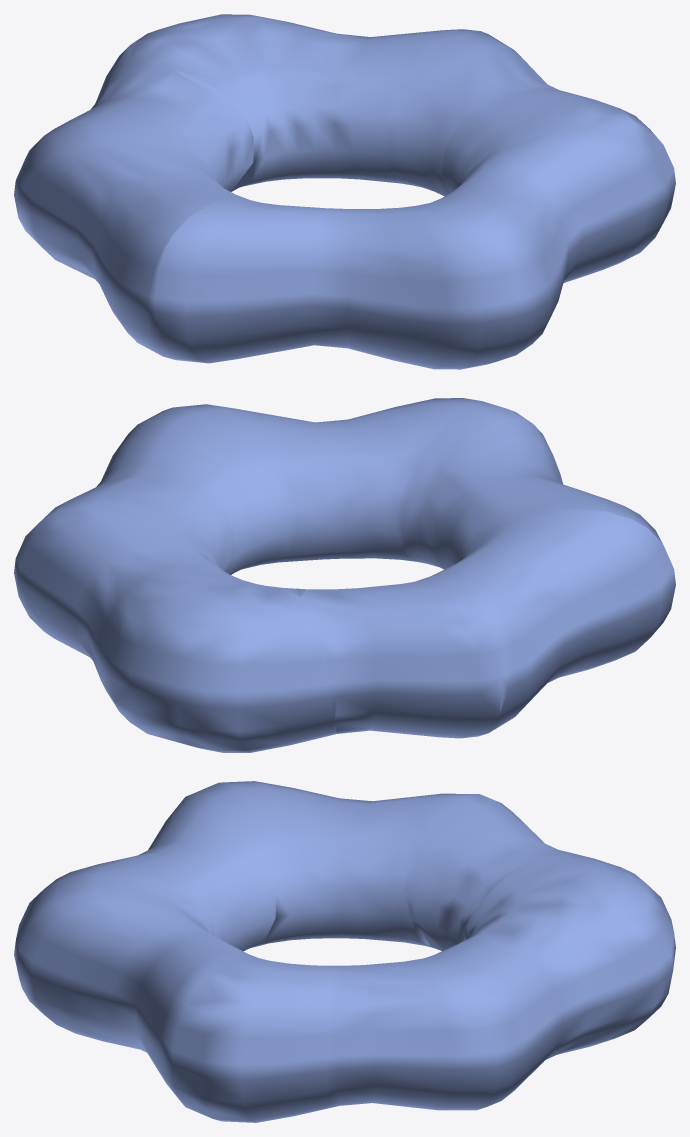
The model's file is SwimRing3-cut.FBX.
3 views of the same model, one above another, from view 1: azimuth 30°, elevation 25°; view 2: azimuth 150°, elevation 25°; view 3: azimuth 270°, elevation 25° (orthographic). The views are drawn at different scales.
Parts seen in each view (by area): view 1: AM94_026_obj_0003_Part_3, AM94_026_obj_0003_Part_4, AM94_026_obj_0003_Part_1, AM94_026_obj_0003_Part_2; view 2: AM94_026_obj_0003_Part_4, AM94_026_obj_0003_Part_3, AM94_026_obj_0003_Part_1, AM94_026_obj_0003_Part_2; view 3: AM94_026_obj_0003_Part_3, AM94_026_obj_0003_Part_4, AM94_026_obj_0003_Part_1, AM94_026_obj_0003_Part_2.
Boxes of the visible parts, left/top/right/bottom form: AM94_026_obj_0003_Part_3: left=155, top=89, right=675, bottom=369; AM94_026_obj_0003_Part_4: left=96, top=14, right=565, bottom=196; AM94_026_obj_0003_Part_1: left=18, top=140, right=249, bottom=361; AM94_026_obj_0003_Part_2: left=14, top=68, right=254, bottom=216; AM94_026_obj_0003_Part_4: left=14, top=458, right=335, bottom=752; AM94_026_obj_0003_Part_3: left=104, top=398, right=662, bottom=574; AM94_026_obj_0003_Part_1: left=428, top=508, right=675, bottom=738; AM94_026_obj_0003_Part_2: left=296, top=574, right=512, bottom=738; AM94_026_obj_0003_Part_3: left=14, top=783, right=335, bottom=1122; AM94_026_obj_0003_Part_4: left=326, top=852, right=675, bottom=1110; AM94_026_obj_0003_Part_1: left=218, top=781, right=446, bottom=949; AM94_026_obj_0003_Part_2: left=403, top=793, right=574, bottom=950.
Size of the model in its own units: 59.16 by 14.83 by 64.57.
